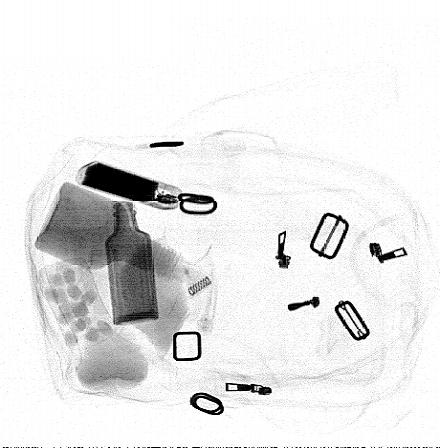Powerbank: (75, 160, 183, 212)
